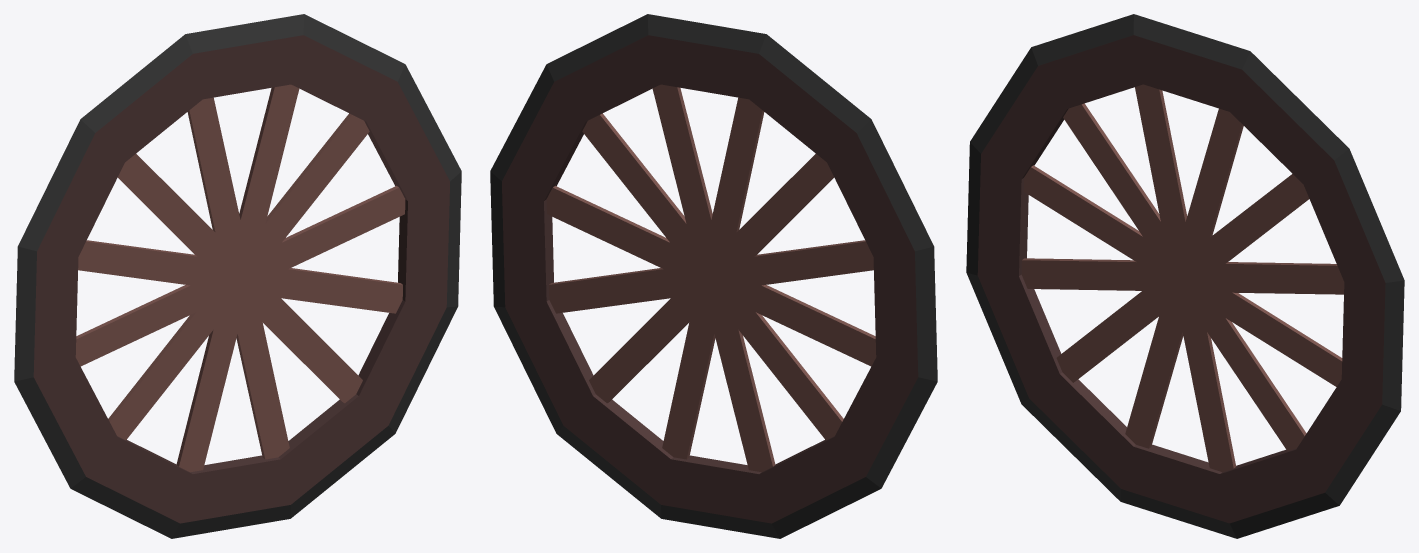
Rendered from DarkRoseWoodMechLargeLiftWheel1.fbx.
3 views of the same model, side by side, from view 1: azimuth 30°, elevation 25°; view 2: azimuth 150°, elevation 25°; view 3: azimuth 330°, elevation 25° (orthographic). The views are drawn at different scales.
Parts seen in each view (by area): view 1: DarkRoseWoodMechLargeLiftWheel2; view 2: DarkRoseWoodMechLargeLiftWheel2; view 3: DarkRoseWoodMechLargeLiftWheel2.
Part boxes in pixels (<box>): DarkRoseWoodMechLargeLiftWheel2: <box>14,14,461,538</box>; DarkRoseWoodMechLargeLiftWheel2: <box>490,14,937,538</box>; DarkRoseWoodMechLargeLiftWheel2: <box>966,14,1404,538</box>.
Bounding box in the file's own units: 1860 × 2026 × 56.55.
